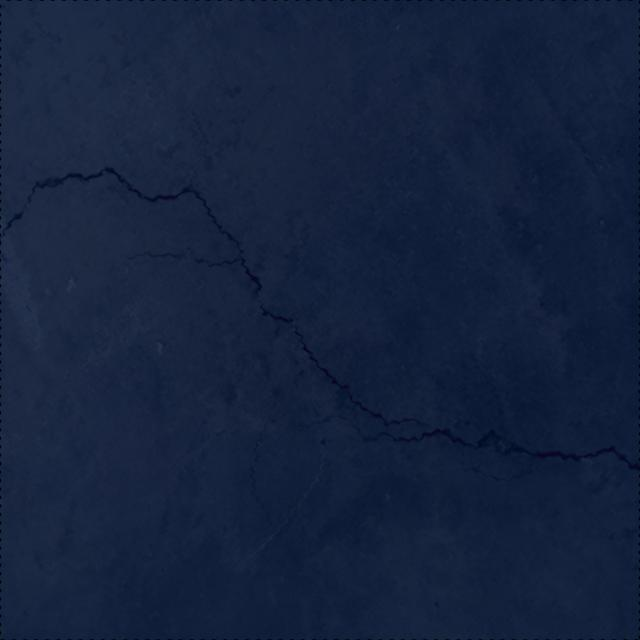crack: (0, 132, 430, 426), (283, 413, 640, 472), (293, 554, 324, 630), (250, 422, 270, 528), (463, 466, 532, 482), (259, 83, 287, 108)
